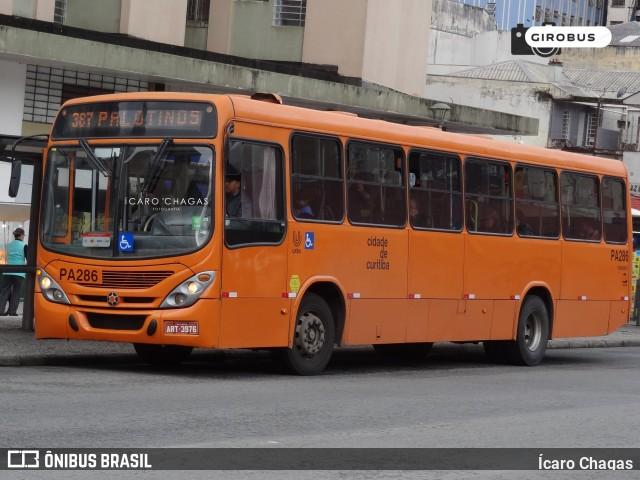PALOTINOS: (94, 107, 203, 130)
